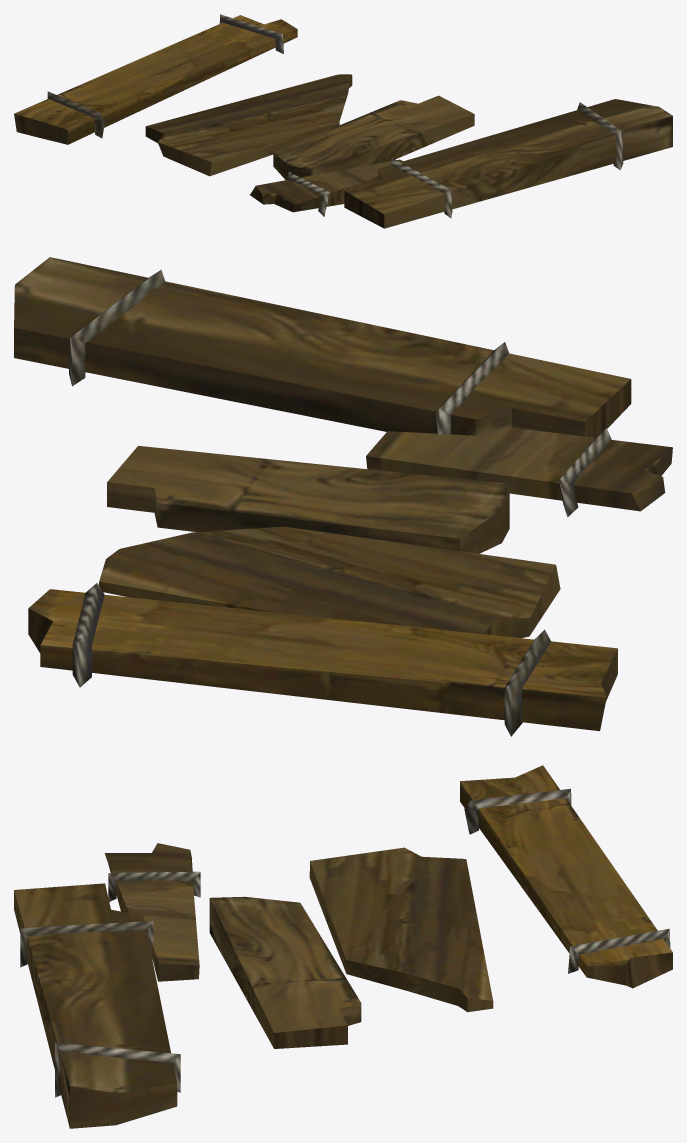
File: 6001_Item_mutou_12.FBX
3 views of the same model, one above another, from view 1: azimuth 30°, elevation 25°; view 2: azimuth 150°, elevation 25°; view 3: azimuth 270°, elevation 25° (orthographic). The views are drawn at different scales.
Parts seen in each view (by area): view 1: 6001_Item_mutou_12; view 2: 6001_Item_mutou_12; view 3: 6001_Item_mutou_12.
Boxes of the visible parts, bbox=[...] form: 6001_Item_mutou_12: bbox=[14, 14, 672, 228]; 6001_Item_mutou_12: bbox=[14, 257, 672, 736]; 6001_Item_mutou_12: bbox=[14, 765, 672, 1128].
Bounding box in the file's own units: 346 × 29.68 × 293.
